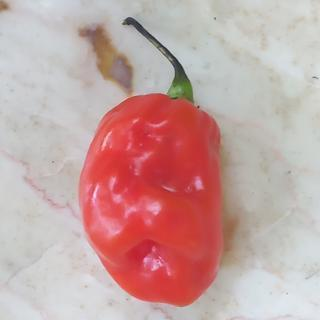Grade-A: (77, 88, 227, 306)
